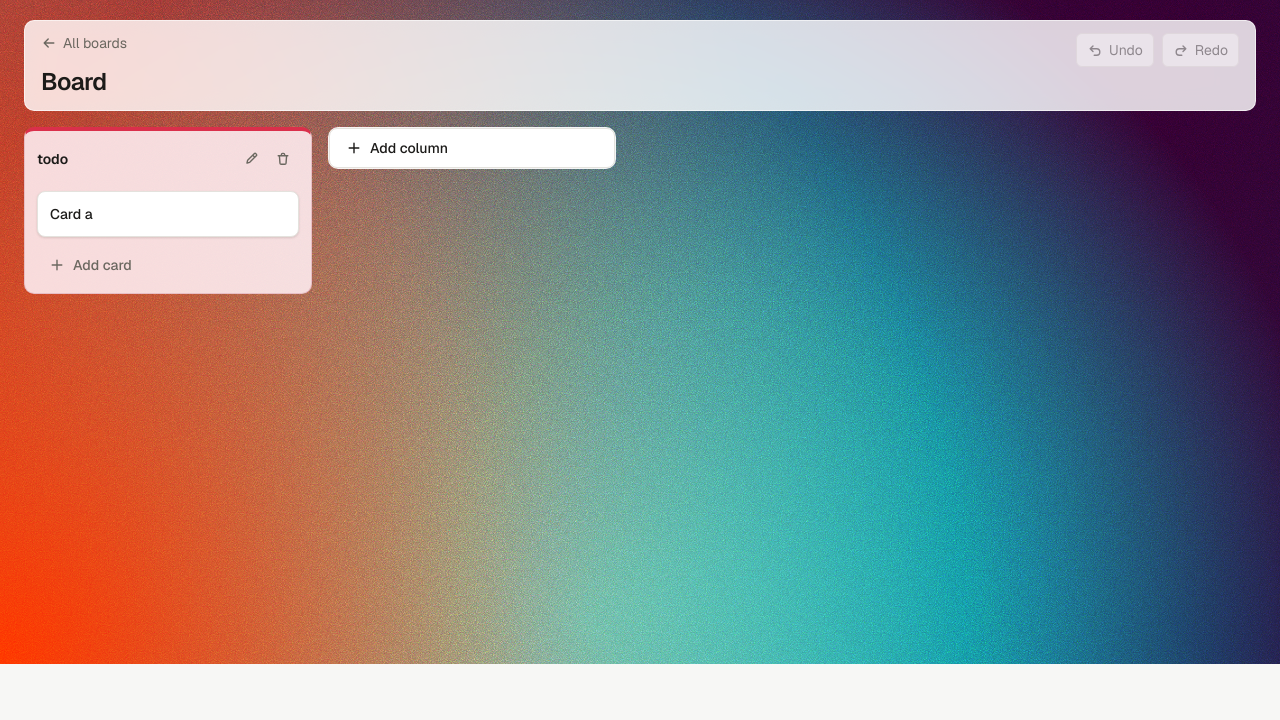
large threads › shows the latest 30 comments and reveals earlier ones on request
Click the button "Card a".
click(71, 214)  # box [37,191,299,237]
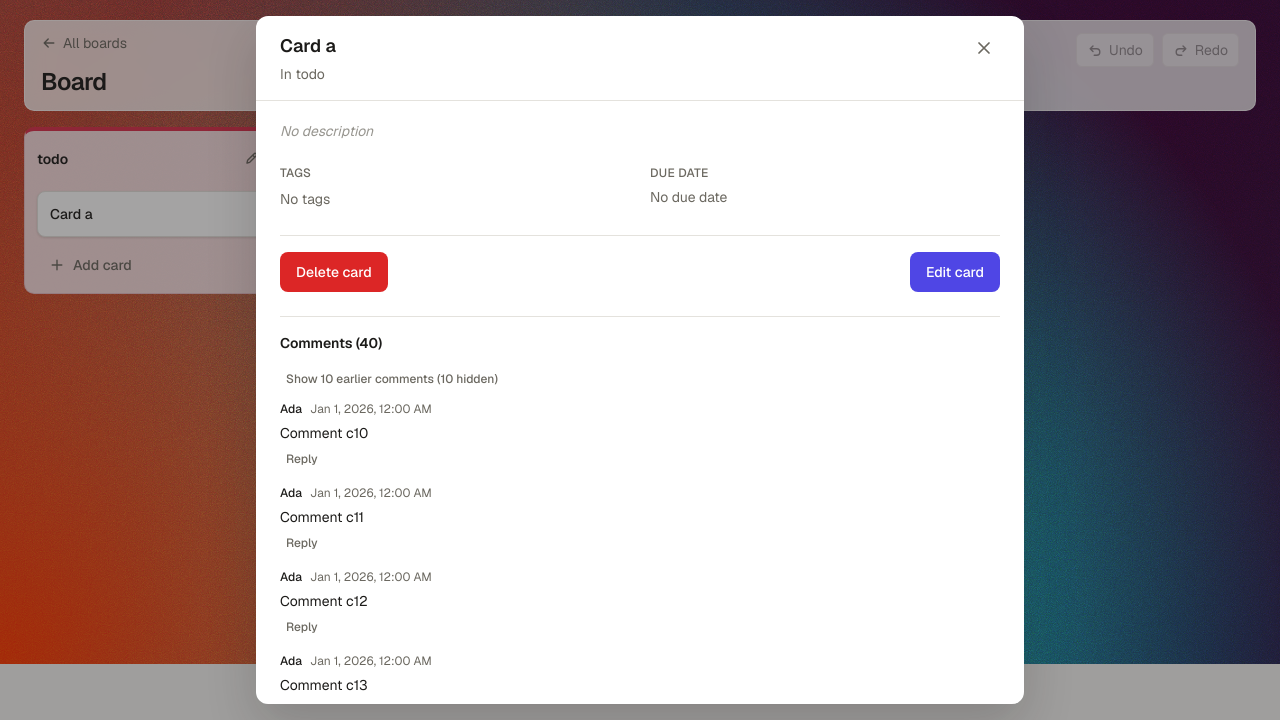
Check: the text "Comment c10" is shown, box [280,424,368,442]
Click the button "Show 10 earlier comments (10 hidden)".
click(392, 379)  # box [280,369,504,389]
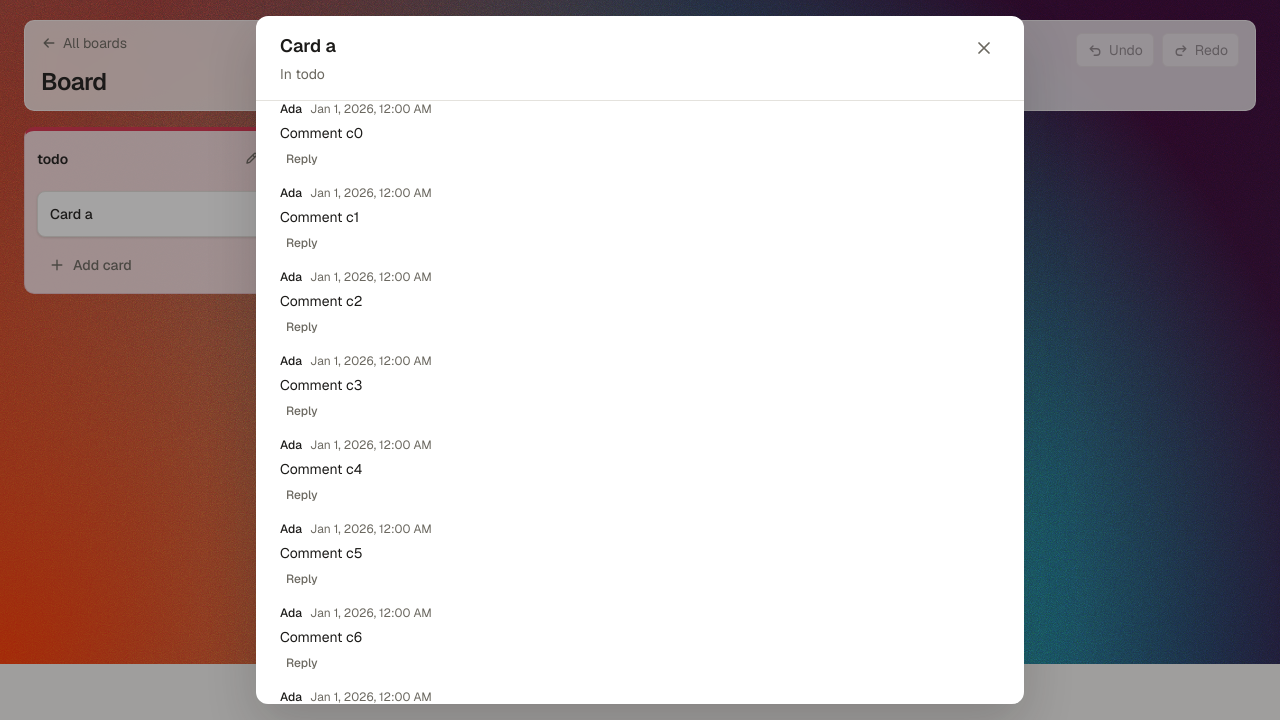
Check: the text "Comment c0" is shown, box [280,124,363,142]
